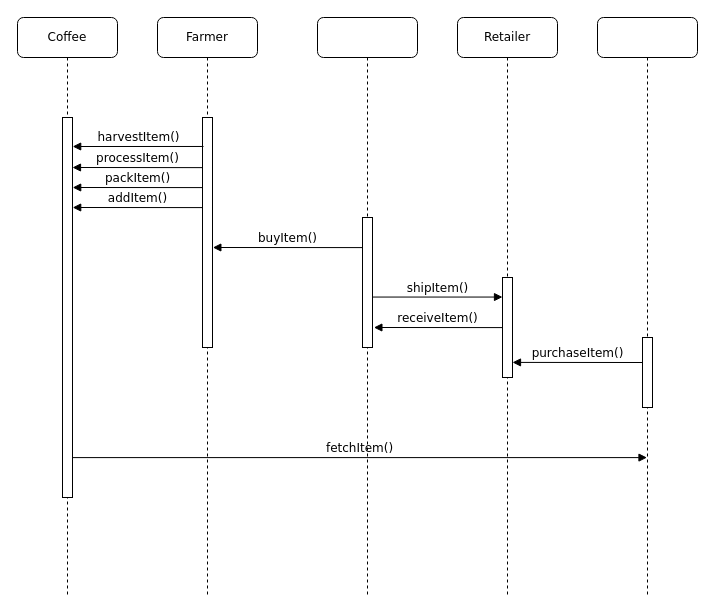
The diagram is 715 pixels wide and 615 high, and some of its shapes have lost their labels. The centre of each missing label's shape, as x and y in pixels:
"Consumer" goes at (647,307).
"Distributor" goes at (367,307).
